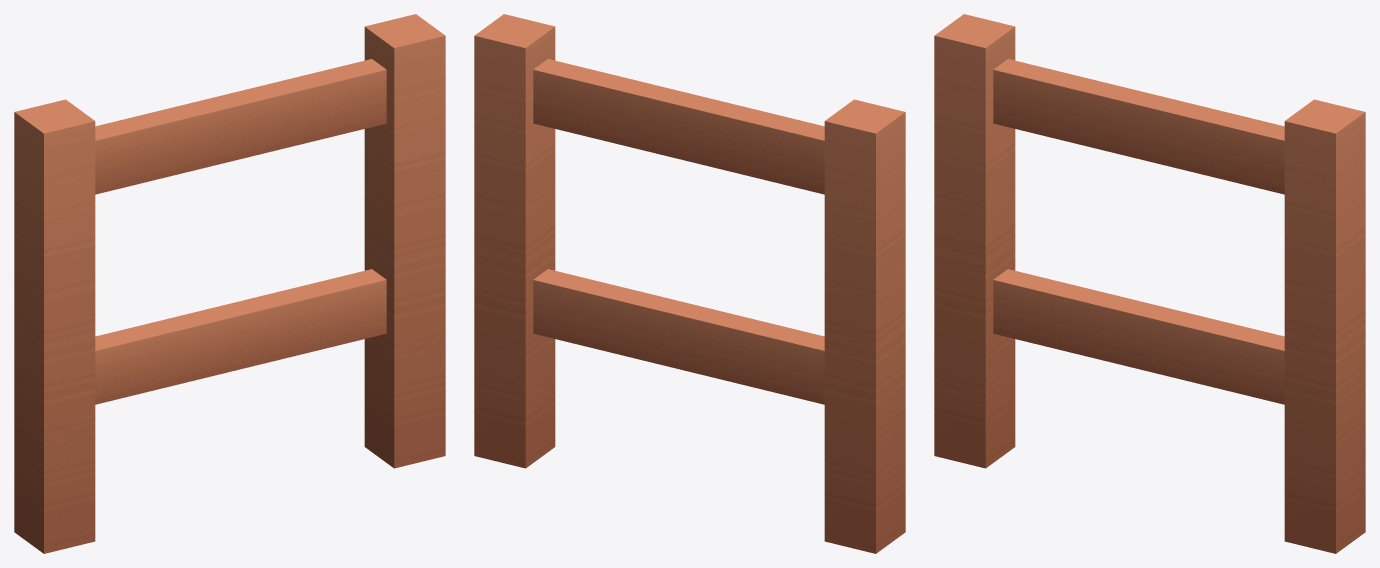
File: wood-structure-high-part.glb
The picture shows the model from 3 angles, left to right: view 1: azimuth 30°, elevation 25°; view 2: azimuth 150°, elevation 25°; view 3: azimuth 330°, elevation 25°; orthographic projection.
Visible parts, largest first — view 1: wood-structure-high-part; view 2: wood-structure-high-part; view 3: wood-structure-high-part.
Part boxes in pixels (bbox=[...]): wood-structure-high-part: bbox=[14, 14, 445, 553]; wood-structure-high-part: bbox=[474, 14, 905, 553]; wood-structure-high-part: bbox=[934, 14, 1365, 553].
Bounding box in the file's own units: 1 × 1 × 0.128.
1 material, 1 textured.
